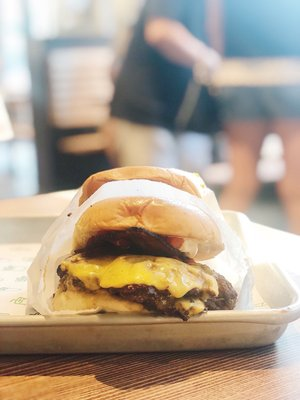soup: (46, 165, 242, 321)
